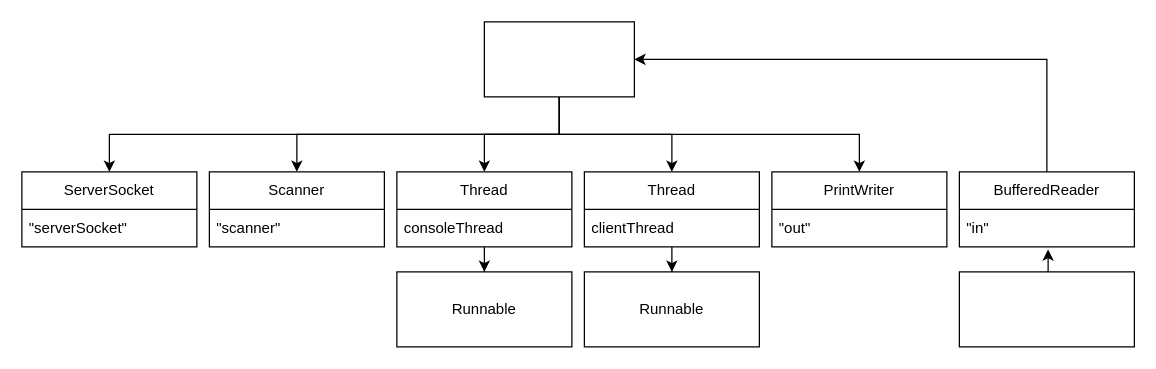
Image size: 1156x369. Some labels were removed from this diagram. The shapes that lost their labels are listed below. From the top down, each one's centre as x and y in pixels, then its label:
(x=558, y=59): Server
(x=1046, y=309): InputStreamRader
